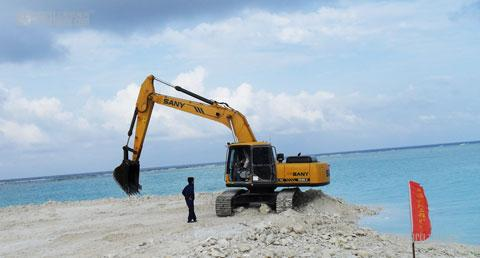excavator: (110, 69, 336, 221)
